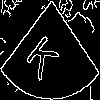K: (25, 25, 65, 83)
